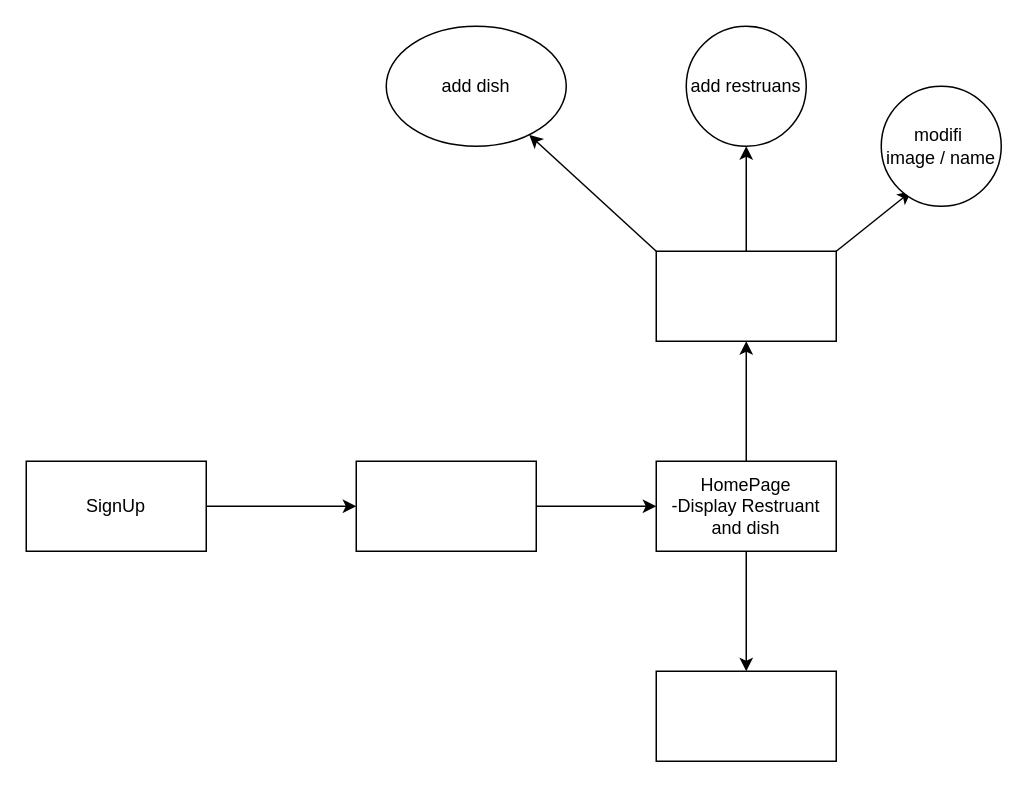
Some shapes in this 1028 by 788 pixel diagram are drawn without their labels. The shapes that lost their labels are listed below. From the top down, each one's centre as x and y in pixels, then its label:
At (x=745, y=295): "Profile".
At (x=445, y=505): "Login".
At (x=745, y=715): "Settings".
